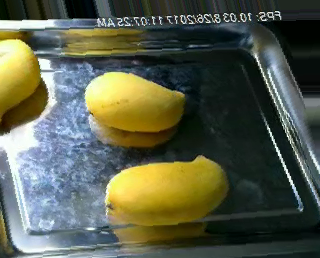Mango: (104, 154, 229, 226), (86, 72, 184, 132), (0, 39, 41, 120)
